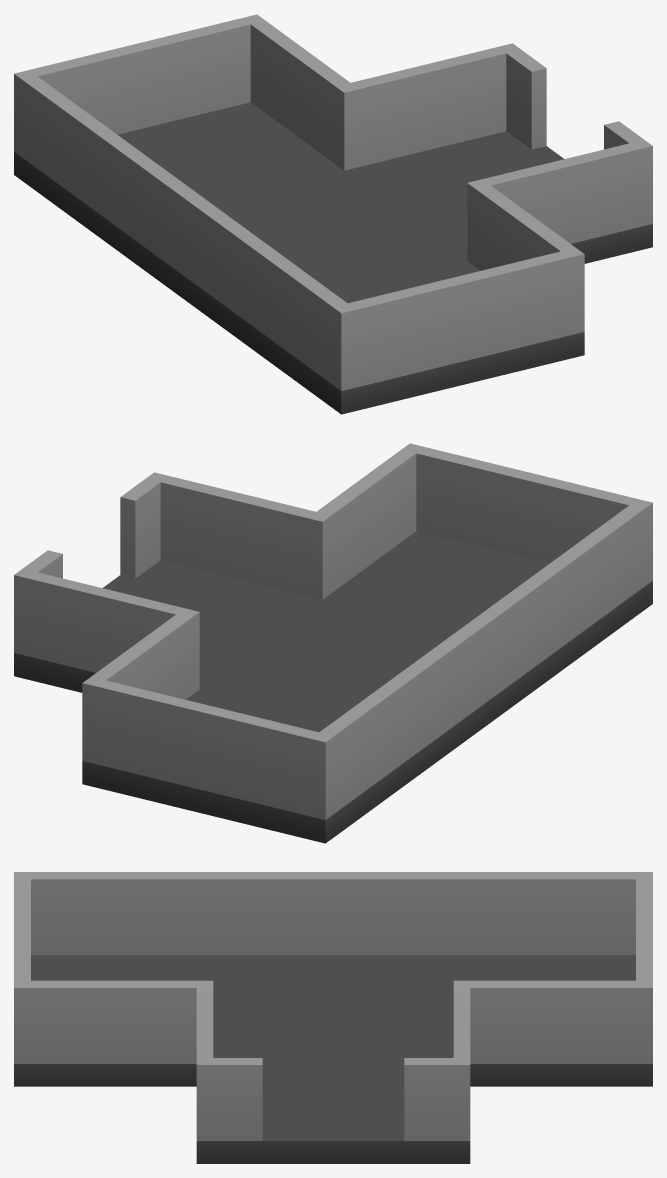
File: Fundaments_3_1.obj
3 renders of one model, top to bottom at view 1: azimuth 30°, elevation 25°; view 2: azimuth 150°, elevation 25°; view 3: azimuth 270°, elevation 25°, orthographic. The views are drawn at different scales.
Parts seen in each view (by area): view 1: Fundaments_3_1; view 2: Fundaments_3_1; view 3: Fundaments_3_1.
Boxes of the visible parts, x1=… form: Fundaments_3_1: x1=14, y1=14, x2=652, y2=414; Fundaments_3_1: x1=14, y1=443, x2=652, y2=843; Fundaments_3_1: x1=14, y1=872, x2=652, y2=1163.
Bounding box in the file's own units: 10 × 2.39 × 14.
